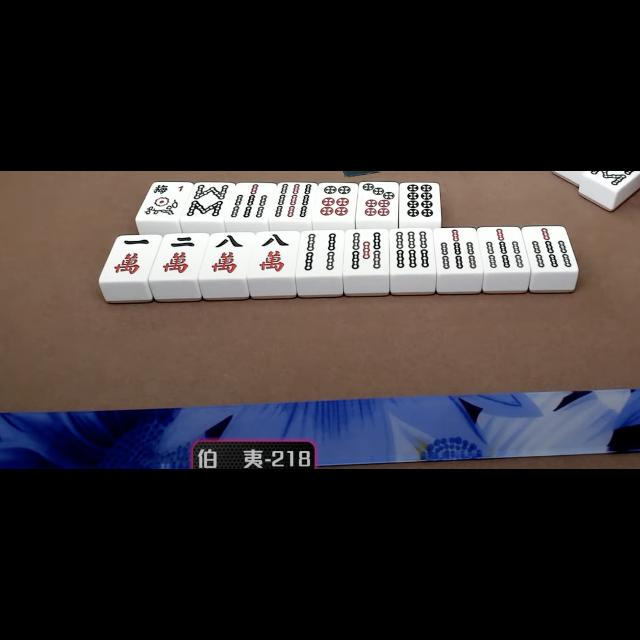b4: (299, 230, 343, 276)
b5: (346, 230, 388, 274)
b6: (391, 230, 434, 272)
b7: (526, 227, 576, 271), (480, 227, 528, 271), (436, 230, 480, 272), (230, 183, 272, 221)
b8: (186, 183, 228, 220)
b9: (274, 182, 314, 220)
c1: (106, 236, 154, 280)
c2: (156, 234, 202, 278)
c8: (204, 234, 250, 278), (252, 232, 296, 276)
d6: (316, 184, 356, 220)
d7: (358, 184, 398, 222)
d8: (401, 183, 439, 221)
f1: (148, 182, 186, 198)
